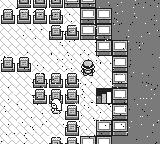main: (80, 60, 95, 76)
no-caminable: (64, 0, 128, 143), (97, 0, 160, 143), (31, 72, 80, 143), (1, 0, 80, 40), (1, 57, 31, 72)
npc: (50, 99, 62, 114)
puerta: (96, 88, 112, 105)
